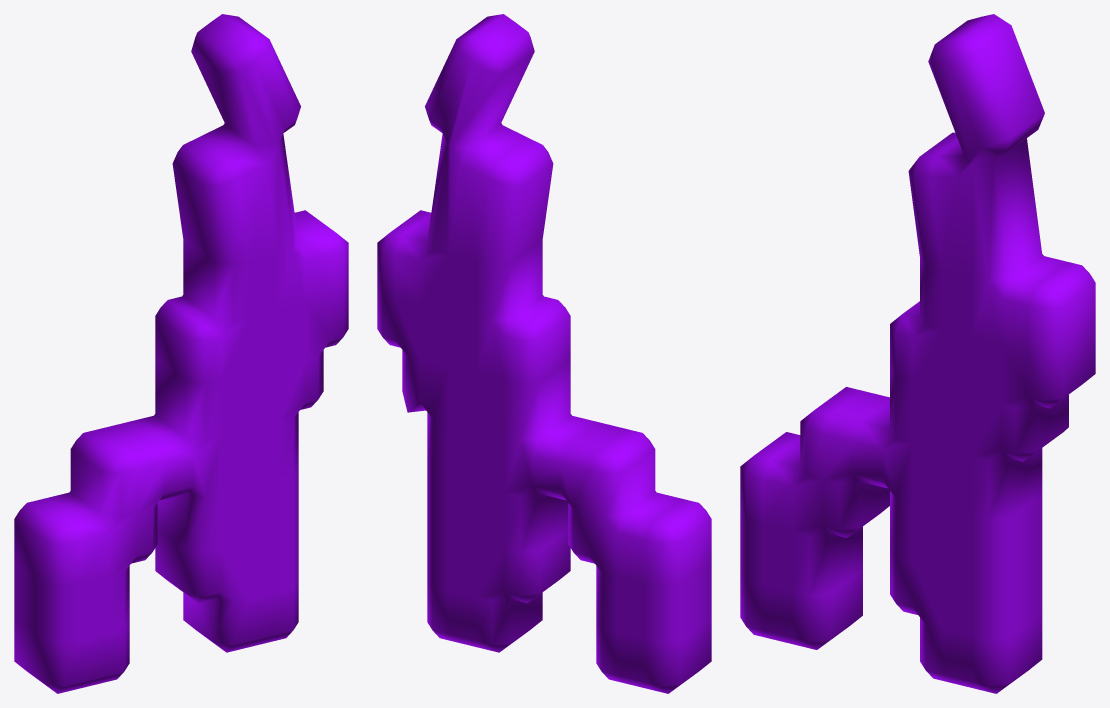
The model's file is OpticalPuzzle_5.FBX.
The picture shows the model from 3 angles, left to right: view 1: azimuth 30°, elevation 25°; view 2: azimuth 150°, elevation 25°; view 3: azimuth 330°, elevation 25°; orthographic projection. The views are drawn at different scales.
Parts seen in each view (by area): view 1: OpticalPuzzle_5; view 2: OpticalPuzzle_5; view 3: OpticalPuzzle_5.
Boxes of the visible parts, x1=… form: OpticalPuzzle_5: x1=14, y1=14, x2=348, y2=693; OpticalPuzzle_5: x1=377, y1=14, x2=711, y2=693; OpticalPuzzle_5: x1=740, y1=14, x2=1095, y2=693.
Bounding box in the file's own units: 486 × 933 × 125.
